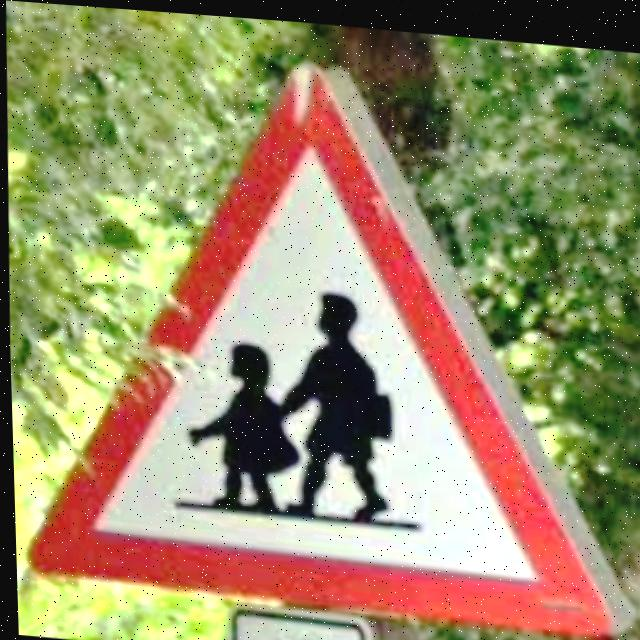childrencross: (30, 67, 609, 625)
